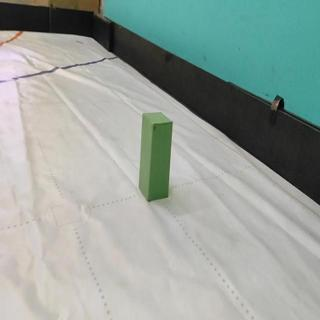greenbox: (137, 111, 174, 203)
